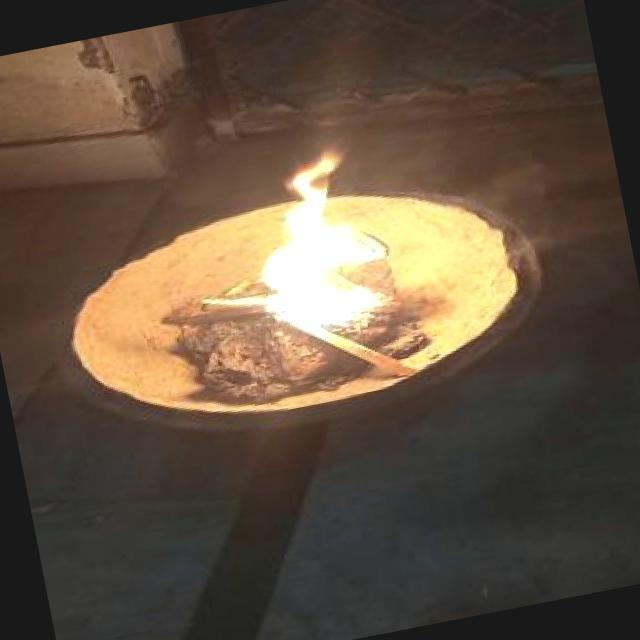Fire: (240, 133, 415, 335)
